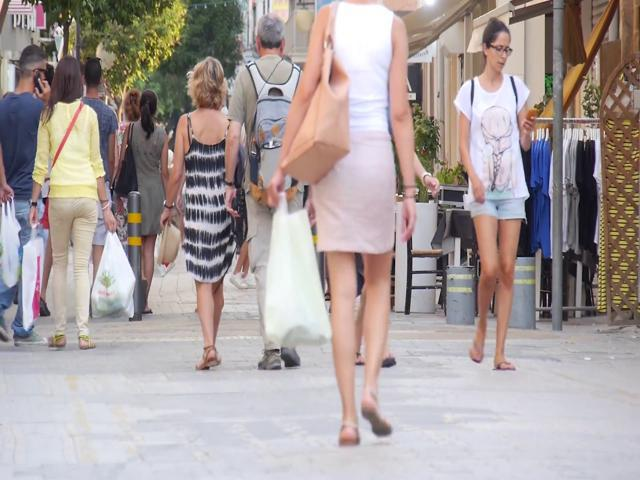shoe: (360, 401, 392, 436), (469, 321, 487, 362), (196, 345, 217, 370), (339, 423, 360, 446), (257, 351, 281, 370), (15, 333, 47, 346), (280, 347, 300, 366), (78, 333, 97, 349), (47, 333, 67, 347), (493, 358, 514, 371)
